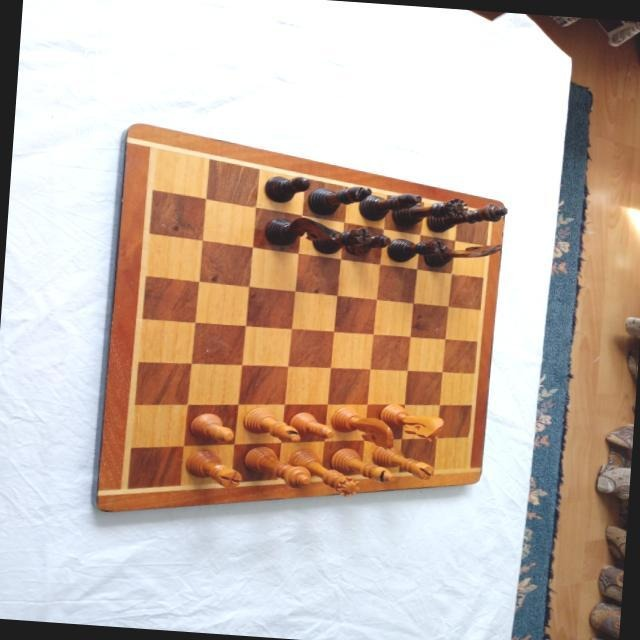black-bishop: (305, 182, 371, 218), (356, 190, 420, 224)
black-king: (424, 199, 507, 238)
black-knight: (263, 214, 337, 250), (422, 239, 502, 272)
black-pawn: (262, 174, 310, 205), (344, 231, 390, 256)
black-queen: (391, 194, 469, 230)
black-rook: (309, 224, 370, 256), (385, 235, 447, 265)
white-bishop: (328, 446, 398, 483), (240, 405, 302, 443)
white-king: (241, 445, 313, 489)
white-knight: (328, 404, 396, 451), (376, 402, 444, 442)
white-pawn: (187, 411, 235, 442), (288, 411, 336, 440)
white-queen: (283, 446, 362, 497)
white-rook: (369, 440, 435, 480), (184, 448, 242, 489)
